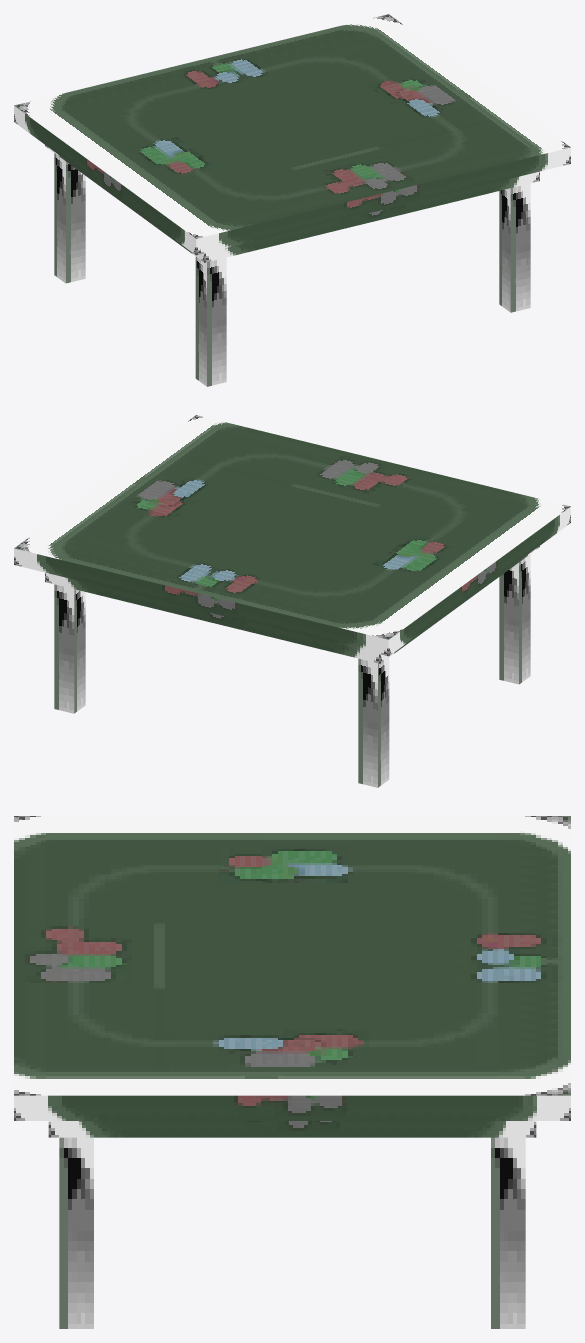
The model's file is Building_PokerTable.glb.
3 renders of one model, top to bottom at view 1: azimuth 30°, elevation 25°; view 2: azimuth 150°, elevation 25°; view 3: azimuth 270°, elevation 25°, orthographic. The views are drawn at different scales.
Parts seen in each view (by area): view 1: PokerTable; view 2: PokerTable; view 3: PokerTable.
Part boxes in pixels (box(x1,y1,x2,y2)): PokerTable: box(14, 14, 570, 386); PokerTable: box(14, 415, 570, 787); PokerTable: box(14, 816, 570, 1328).
Size of the model in its own units: 1.9 by 0.8 by 1.6.
1 material, 1 textured.
